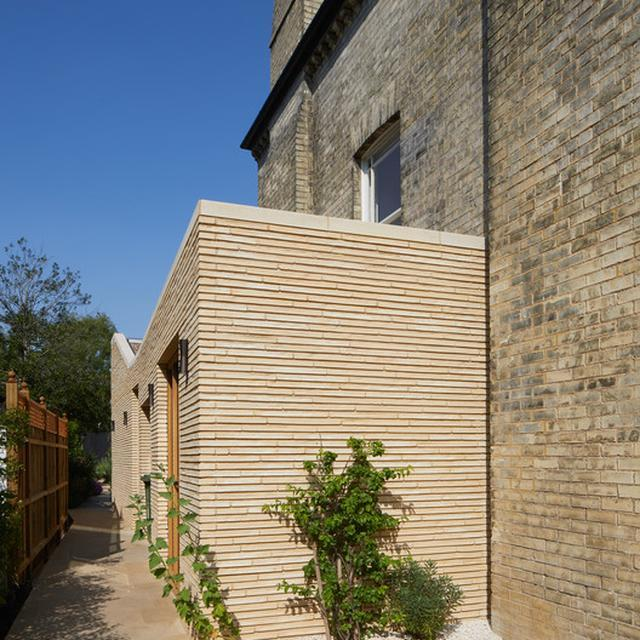building: (107, 0, 640, 640)
